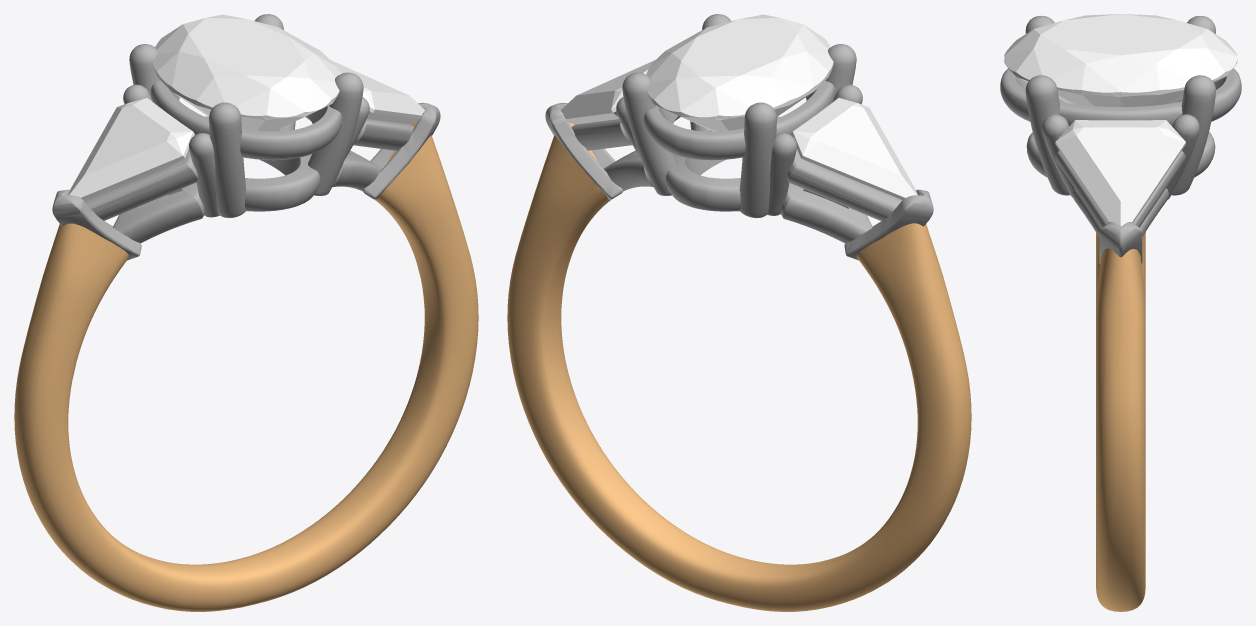
3 renders of one model, left to right at view 1: azimuth 30°, elevation 25°; view 2: azimuth 150°, elevation 25°; view 3: azimuth 270°, elevation 25°, orthographic.
Visible parts, largest first — view 1: /396076Masina DiamondsH-.3dm; view 2: /396076Masina DiamondsH-.3dm; view 3: /396076Masina DiamondsH-.3dm.
Part boxes in pixels (x1,y1,x2,y2): /396076Masina DiamondsH-.3dm: (14, 14, 478, 611); /396076Masina DiamondsH-.3dm: (507, 14, 971, 611); /396076Masina DiamondsH-.3dm: (1000, 14, 1241, 611).
Size of the model in its own units: 2.5 by 2.9 by 1.15.
